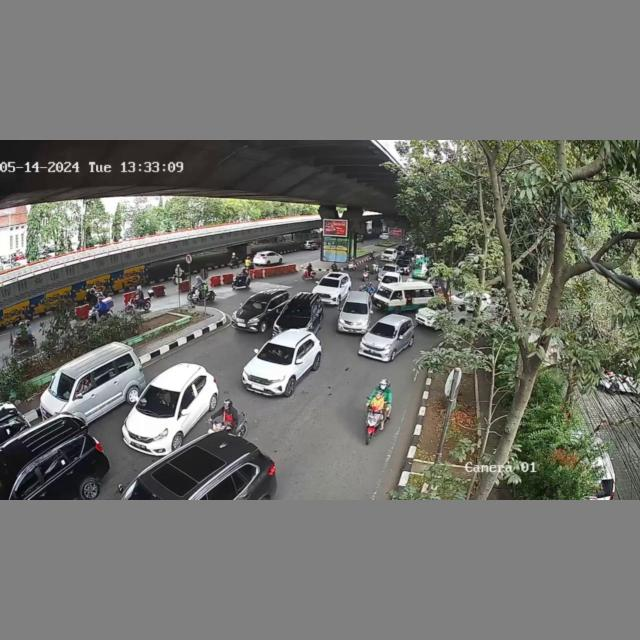windshield: (135, 384, 180, 414), (47, 370, 78, 401), (257, 342, 295, 363), (370, 321, 399, 338), (281, 303, 313, 318), (241, 298, 269, 313), (341, 301, 369, 314)
